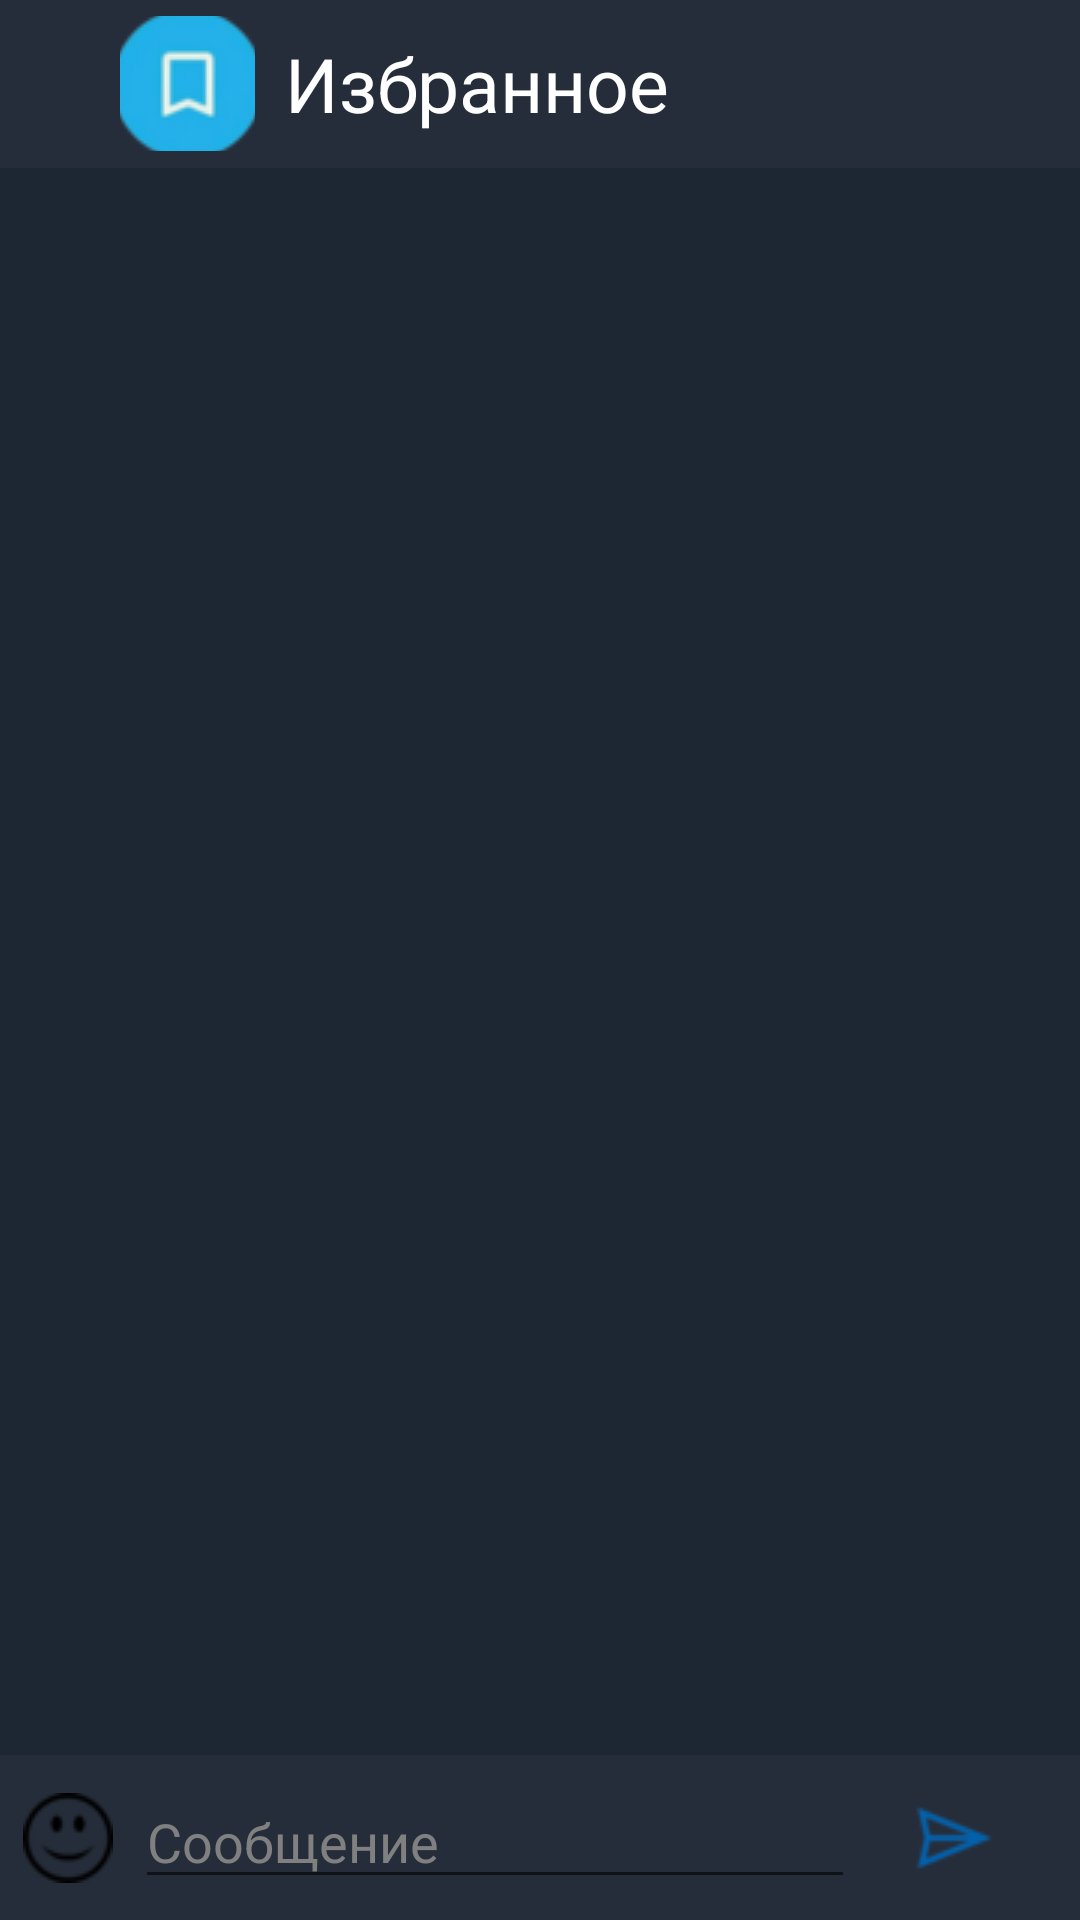

Icon click points for this 1080px×1920px phone screenshot, format (x,y):
choose emogi: (68,1838)
send message: (953,1838)
